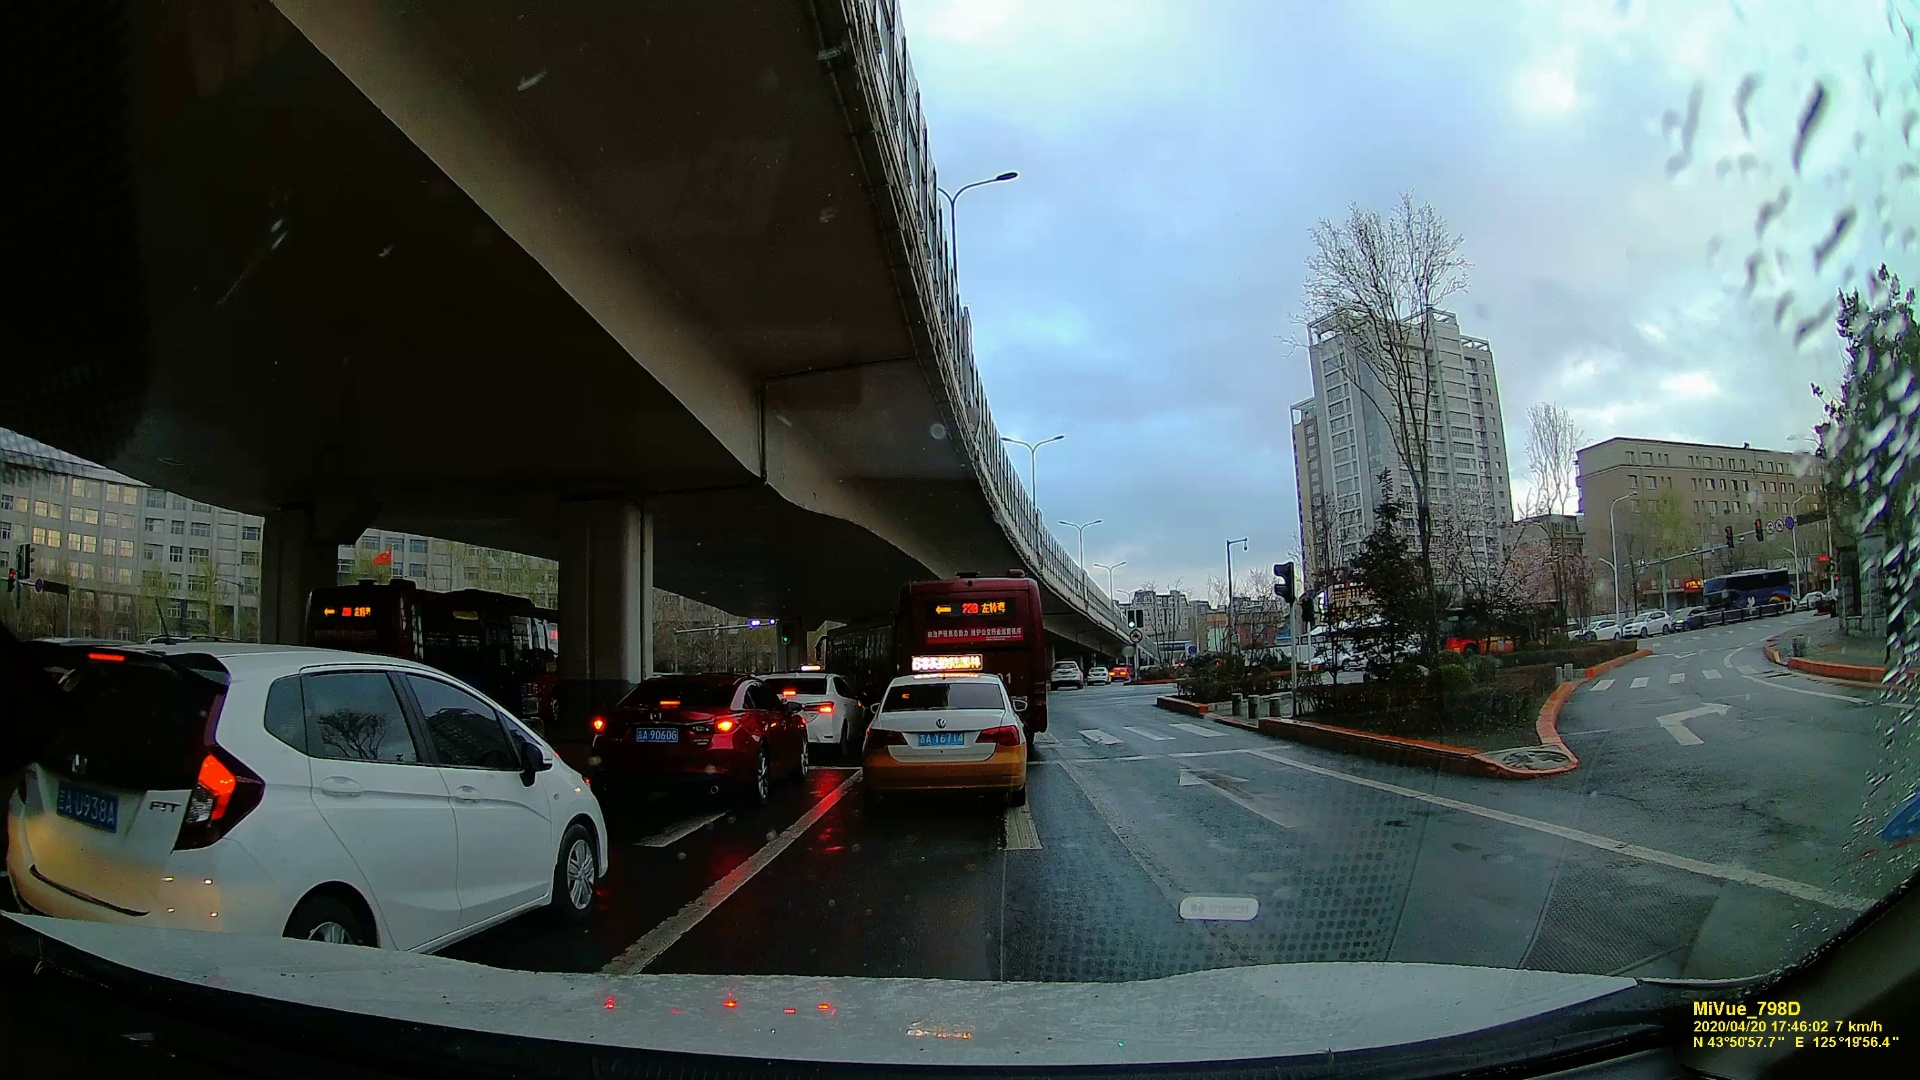bus: (309, 585, 546, 698), (880, 574, 1044, 727), (1698, 568, 1793, 618)
traffic_sign: (1270, 556, 1298, 600), (1722, 526, 1735, 550), (1753, 520, 1764, 543), (1127, 609, 1135, 628), (1130, 630, 1142, 642), (1766, 520, 1774, 534), (1775, 520, 1783, 531)
vehicle: (12, 654, 592, 964), (591, 670, 814, 828), (861, 665, 1033, 810), (731, 665, 857, 748), (1623, 611, 1669, 638), (1052, 662, 1083, 684), (1087, 667, 1109, 684)
